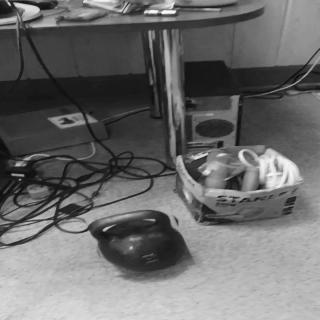kettlebell: (90, 209, 191, 275)
